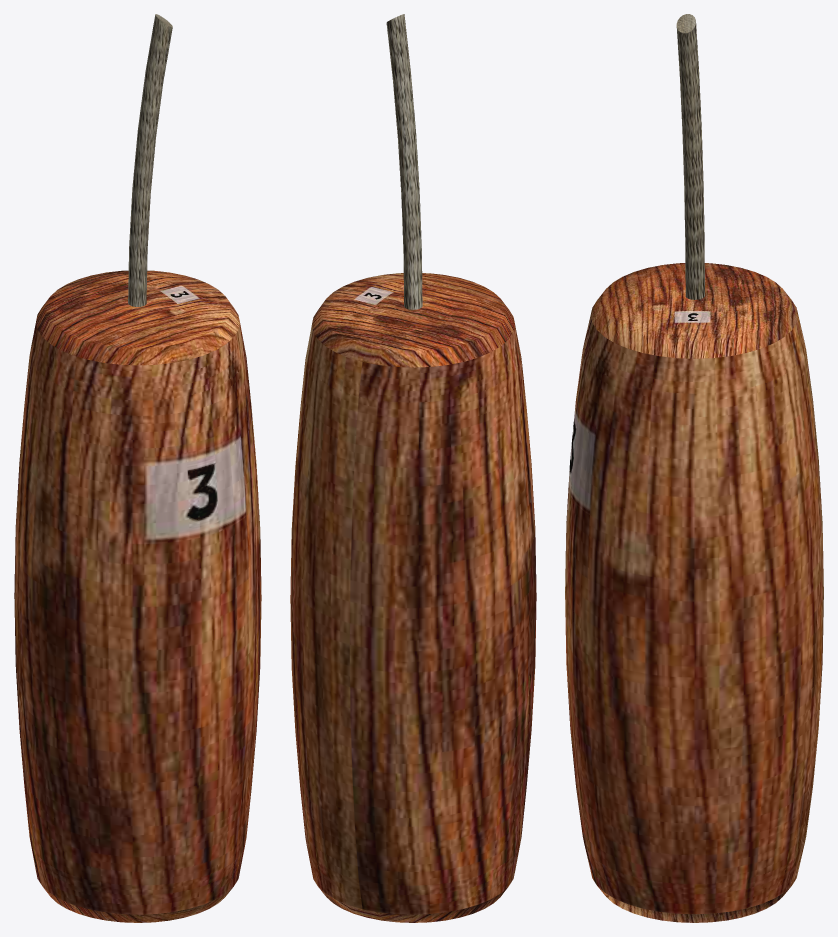
The model's file is punching bag wood3.FBX.
3 views of the same model, side by side, from view 1: azimuth 30°, elevation 25°; view 2: azimuth 150°, elevation 25°; view 3: azimuth 270°, elevation 25° (orthographic).
Parts seen in each view (by area): view 1: Cylinder001, Cylinder002; view 2: Cylinder001, Cylinder002; view 3: Cylinder001, Cylinder002.
Boxes of the visible parts, bbox=[...] form: Cylinder001: bbox=[14, 270, 261, 922]; Cylinder002: bbox=[128, 14, 172, 306]; Cylinder001: bbox=[290, 273, 536, 922]; Cylinder002: bbox=[386, 14, 422, 309]; Cylinder001: bbox=[565, 263, 823, 922]; Cylinder002: bbox=[676, 14, 704, 299].
Size of the model in its own units: 54.37 by 216 by 56.99.
